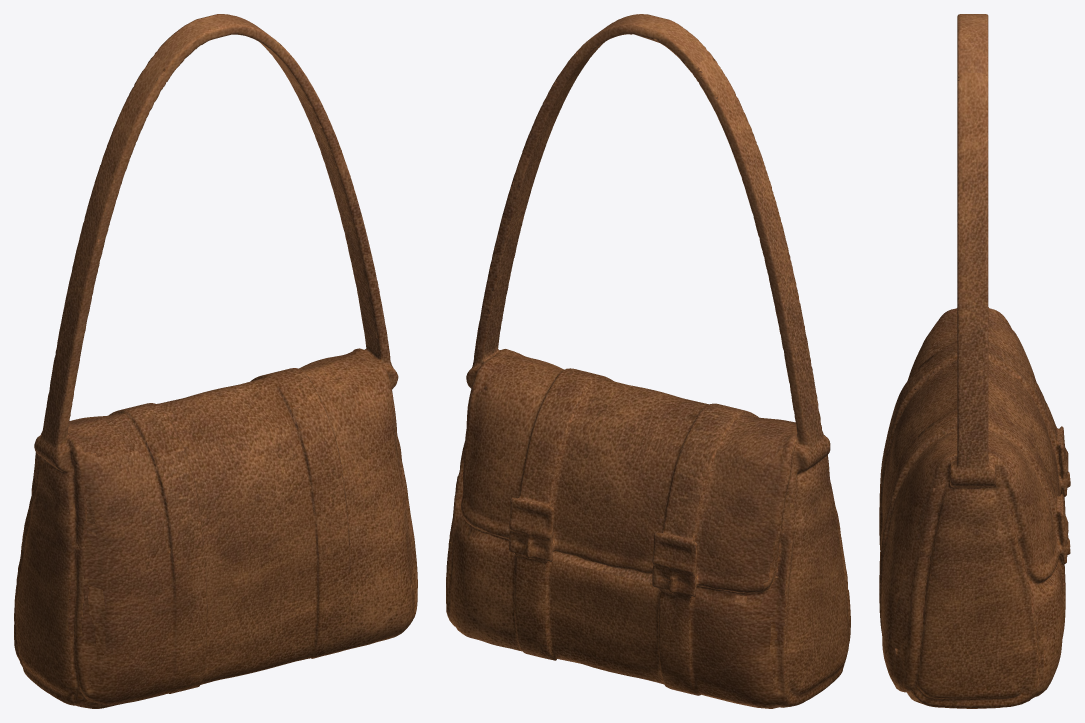
File: Bag.glb
3 renders of one model, left to right at view 1: azimuth 30°, elevation 25°; view 2: azimuth 150°, elevation 25°; view 3: azimuth 270°, elevation 25°, orthographic. The views are drawn at different scales.
Visible parts, largest first — view 1: FBXASC0497343_Satchel_womens_V2; view 2: FBXASC0497343_Satchel_womens_V2; view 3: FBXASC0497343_Satchel_womens_V2.
Part boxes in pixels (x1,y1,x2,y2): FBXASC0497343_Satchel_womens_V2: (14, 14, 417, 708); FBXASC0497343_Satchel_womens_V2: (446, 14, 850, 708); FBXASC0497343_Satchel_womens_V2: (879, 14, 1070, 708).
Size of the model in its own units: 0.5982 by 1.01 by 0.2867.
1 material, 1 textured.
